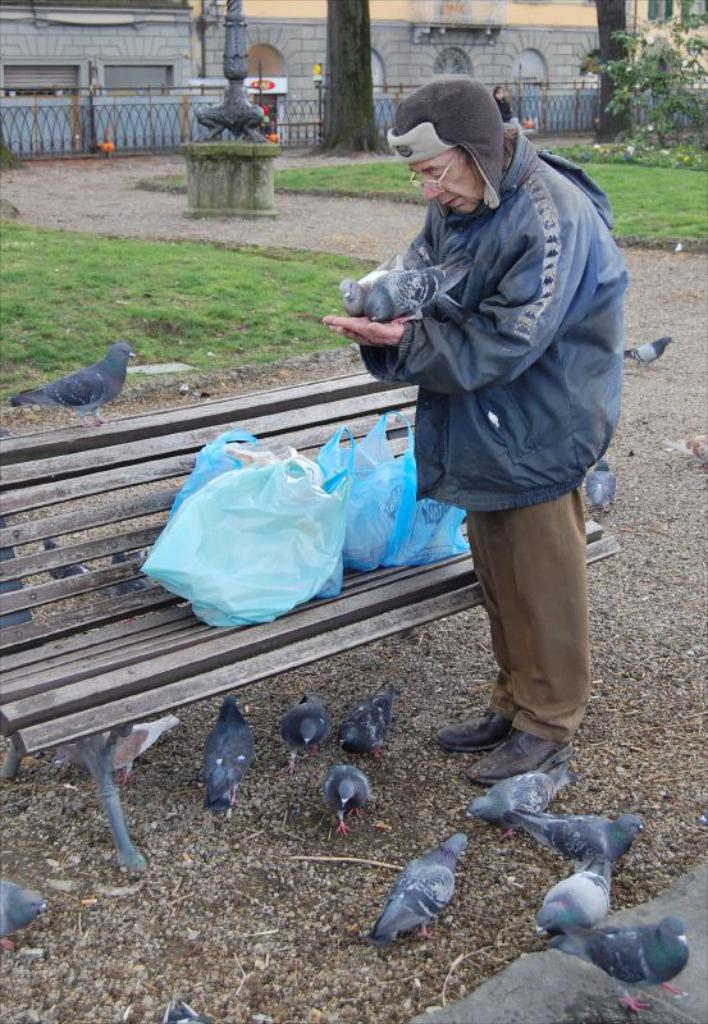Tree: (596, 0, 700, 140)
